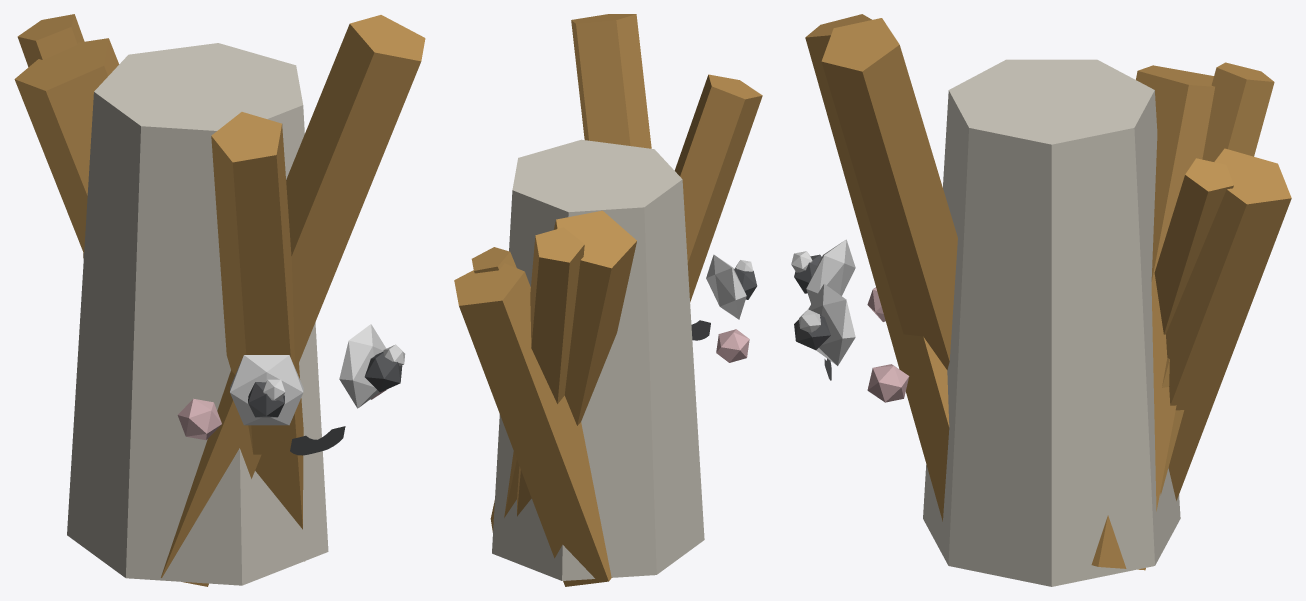
Rendered from xylaria-filiformis.glb.
3 renders of one model, left to right at view 1: azimuth 30°, elevation 25°; view 2: azimuth 150°, elevation 25°; view 3: azimuth 270°, elevation 25°, orthographic. The views are drawn at different scales.
Parts seen in each view (by area): view 1: stalk, branch2, branch3, branch0, pface-eye-r, pface-eye-l, branch4, pface-blush--1, pface-pupil-l, pface-smile, pface-pupil-r; view 2: stalk, branch1, branch0, branch3, branch2, branch4, pface-eye-r, pface-blush--1, branch5; view 3: stalk, branch2, branch1, branch0, branch3, branch5, branch4, pface-eye-l, pface-eye-r, pface-blush-1, pface-pupil-l.
Part boxes in pixels (x1,y1,x2,y2): stalk: (67,43,328,585); branch2: (161,15,425,586); branch3: (211,112,304,561); branch0: (14,38,119,253); pface-eye-r: (230,355,303,425); pface-eye-l: (339,324,386,408); branch4: (17,14,84,66); pface-blush--1: (177,398,221,440); pface-pupil-l: (364,352,402,392); pface-smile: (290,426,345,455); pface-pupil-r: (248,382,284,417); stalk: (492,139,704,580); branch1: (454,263,611,586); branch0: (490,210,636,532); branch3: (674,74,762,302); branch2: (571,14,651,148); branch4: (517,227,584,516); pface-eye-r: (706,254,746,319); pface-blush--1: (716,329,749,362); branch5: (471,247,516,273); stalk: (923,59,1180,586); branch2: (821,18,957,369); branch1: (1166,148,1291,500); branch0: (1091,65,1214,570); branch3: (805,14,949,521); branch5: (1154,158,1233,334); branch4: (1160,62,1274,495); pface-eye-l: (808,283,855,365); pface-eye-r: (806,239,855,303); pface-blush-1: (867,364,909,402); pface-pupil-l: (794,309,830,350).
Size of the model in its own units: 0.0987 by 0.2331 by 0.1894.
